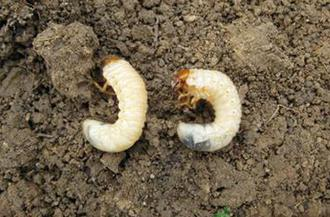grub: (96, 53, 245, 153)
